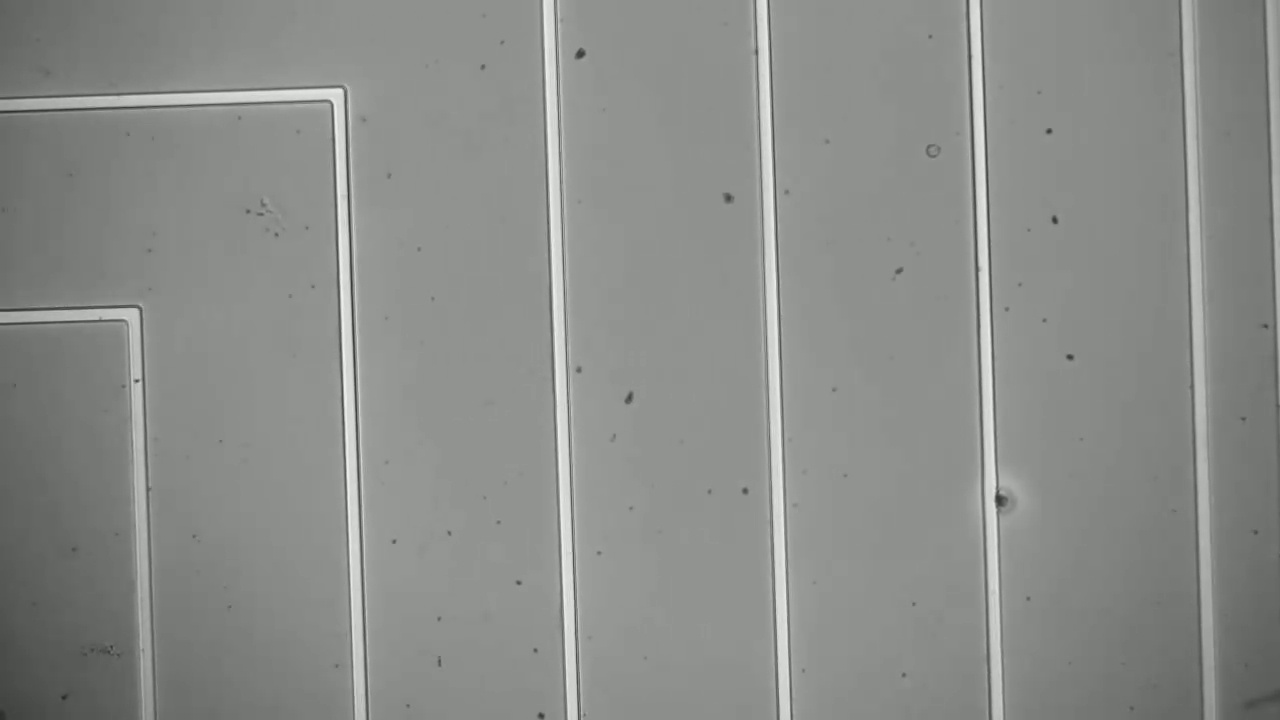stains_enbedded: (970, 475, 1018, 513)
